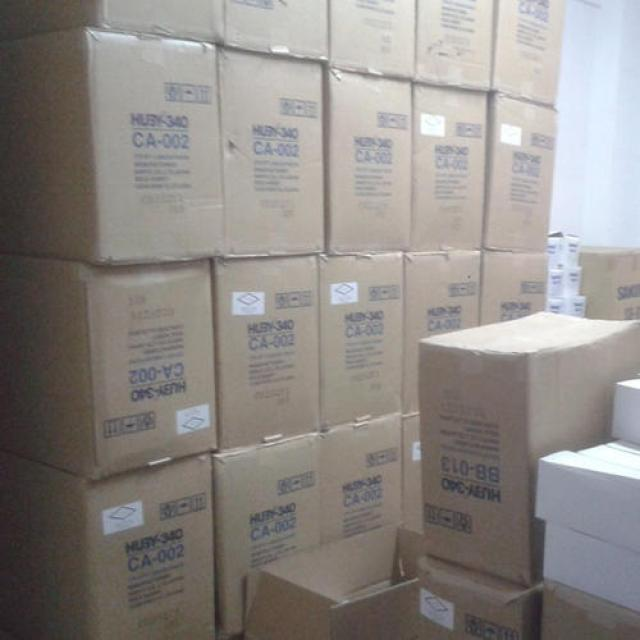box: (419, 311, 640, 588), (4, 31, 225, 266), (5, 253, 219, 481), (8, 449, 215, 640), (211, 429, 323, 640), (214, 46, 325, 257), (243, 522, 424, 640), (214, 255, 320, 448), (324, 70, 412, 256), (319, 253, 403, 429), (410, 81, 486, 253), (403, 250, 480, 413), (481, 92, 558, 250), (320, 412, 403, 548), (535, 448, 640, 553), (417, 553, 531, 640), (541, 522, 640, 612), (411, 0, 495, 91), (492, 1, 563, 104), (328, 1, 417, 78), (225, 0, 329, 61), (540, 577, 640, 640), (479, 248, 548, 326), (579, 246, 640, 320), (402, 412, 422, 531), (609, 378, 640, 444), (576, 444, 640, 472), (547, 232, 566, 268), (603, 438, 640, 456), (545, 266, 564, 300), (564, 268, 582, 297), (566, 294, 586, 317), (566, 234, 579, 269), (544, 297, 566, 316)
